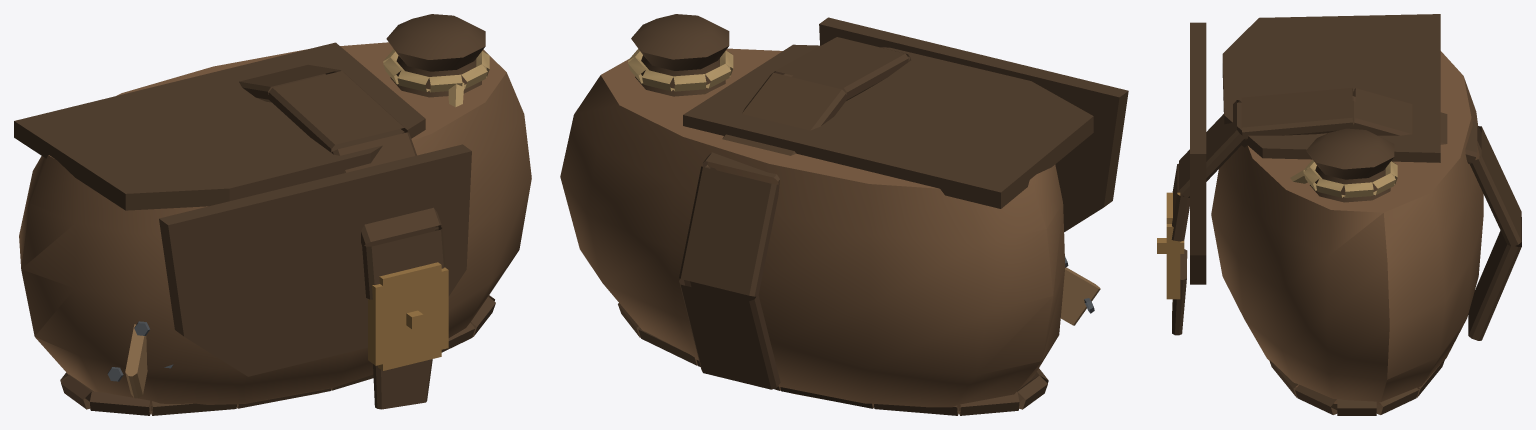
The model's file is SM_LPD_Furn_KitBag_01.fbx.
3 renders of one model, left to right at view 1: azimuth 30°, elevation 25°; view 2: azimuth 150°, elevation 25°; view 3: azimuth 270°, elevation 25°, orthographic. The views are drawn at different scales.
Parts seen in each view (by area): view 1: SM_LPD_Furn_KitBag_01; view 2: SM_LPD_Furn_KitBag_01; view 3: SM_LPD_Furn_KitBag_01.
Part boxes in pixels (x1,y1,x2,y2): SM_LPD_Furn_KitBag_01: [14, 14, 531, 415]; SM_LPD_Furn_KitBag_01: [560, 14, 1128, 415]; SM_LPD_Furn_KitBag_01: [1157, 14, 1521, 415].
Bounding box in the file's own units: 0.5597 × 0.322 × 0.4015.
